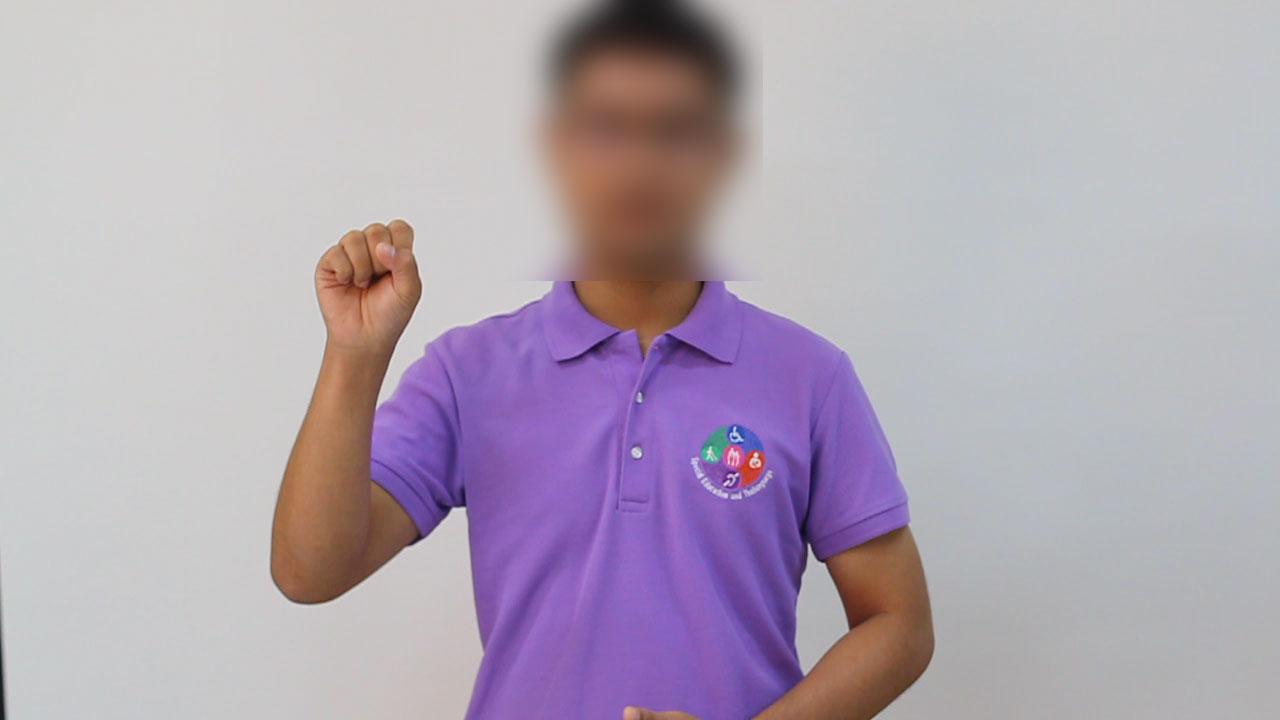sor: (303, 207, 431, 358)
